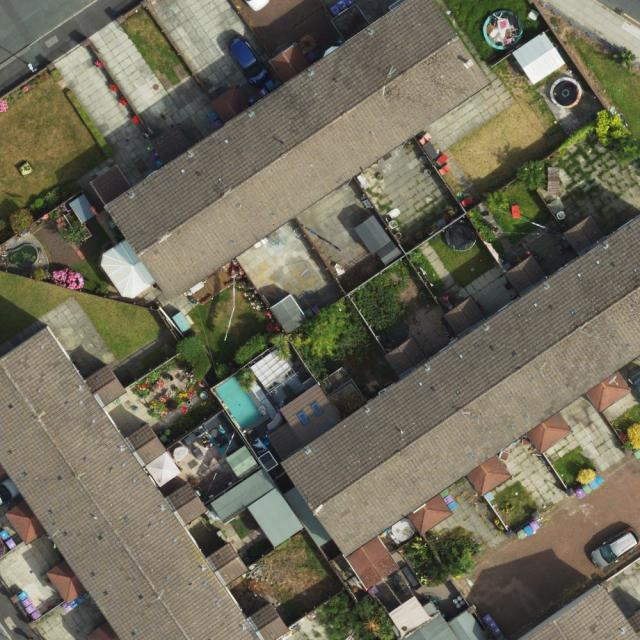roof: (269, 215, 640, 593), (91, 0, 495, 303), (0, 325, 291, 640)
skylight: (295, 409, 313, 429), (309, 400, 324, 419)
